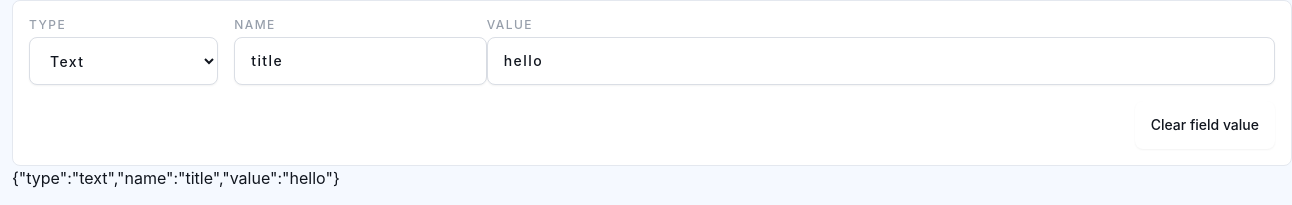
Test case: InputConstructor › clears text field values
This screenshot has width=1292, height=205.
Expected: the field with placeholder "Enter text" holds "hello", [487, 37, 1275, 85]
Click the button "Clear field value": (1205, 125) [1135, 101, 1275, 149]
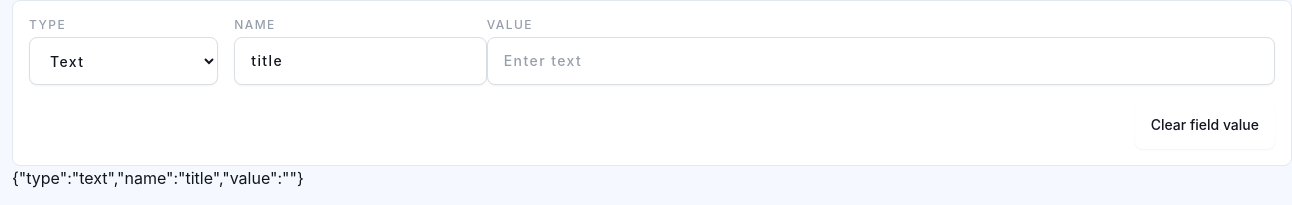
Result: the field with placeholder "Enter text" is empty at [487, 37, 1275, 85]
Result: the text with test id "field-state" shows "\"value\":\"\"" at [12, 168, 304, 188]
